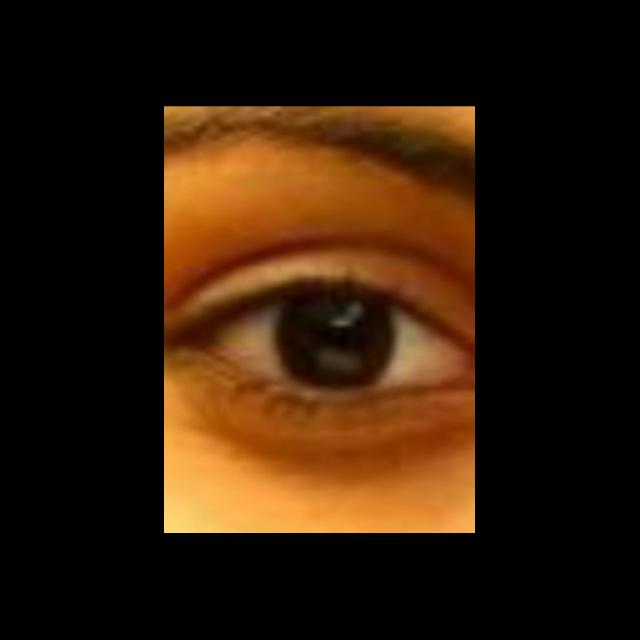eye: (207, 288, 468, 395)
iris: (278, 293, 389, 387)
